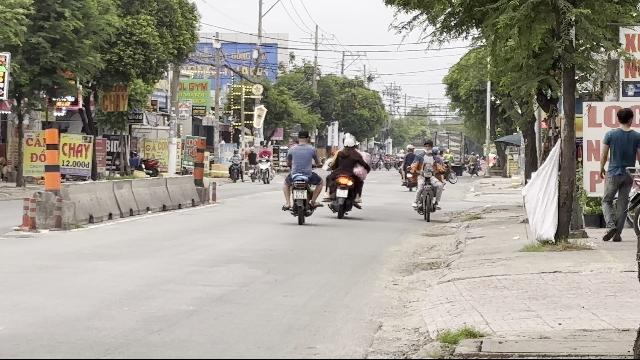licenseplate: (293, 189, 307, 199)
motorcyclist: (280, 128, 324, 224)
nohelmet: (616, 107, 634, 127), (296, 130, 310, 144)
